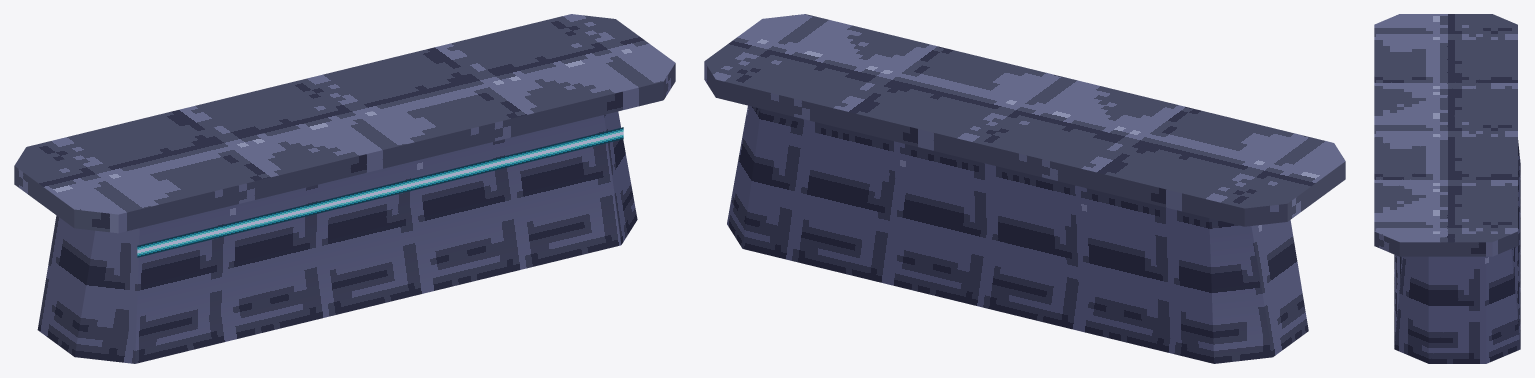
File: cyroom.bar.glb
The picture shows the model from 3 angles, left to right: view 1: azimuth 30°, elevation 25°; view 2: azimuth 150°, elevation 25°; view 3: azimuth 270°, elevation 25°; orthographic projection. The views are drawn at different scales.
Visible parts, largest first — view 1: kit_body, kit_card_details; view 2: kit_body; view 3: kit_body.
Part boxes in pixels (x1,y1,x2,y2): kit_body: (14, 14, 675, 363); kit_card_details: (137, 127, 623, 257); kit_body: (704, 14, 1345, 363); kit_body: (1374, 14, 1520, 363).
Size of the model in its own units: 4.7 by 1.24 by 1.28.
4 materials, 4 textured.
